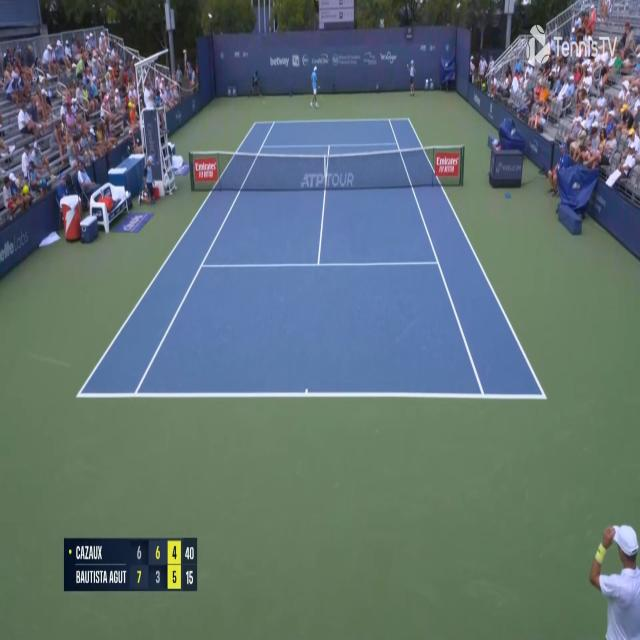tennis-player: (586, 520, 640, 640), (310, 62, 320, 109)
